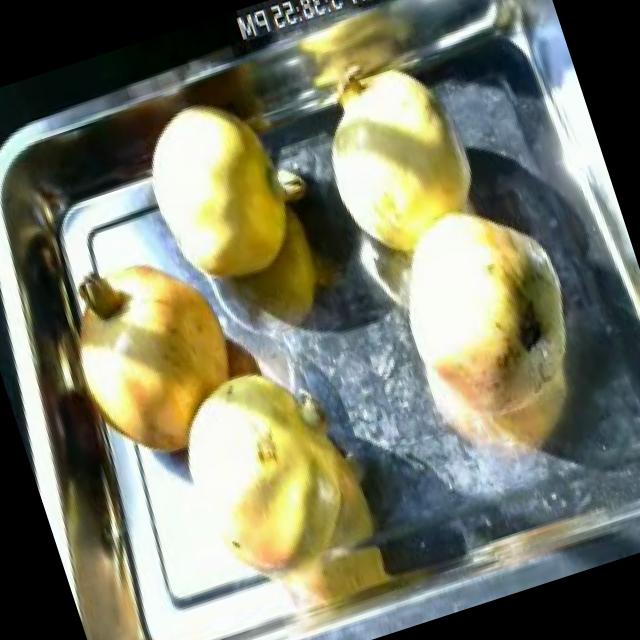fruit: (362, 165, 617, 464), (44, 226, 268, 484), (119, 72, 334, 315), (294, 41, 504, 280), (150, 342, 338, 522), (188, 424, 376, 600)
